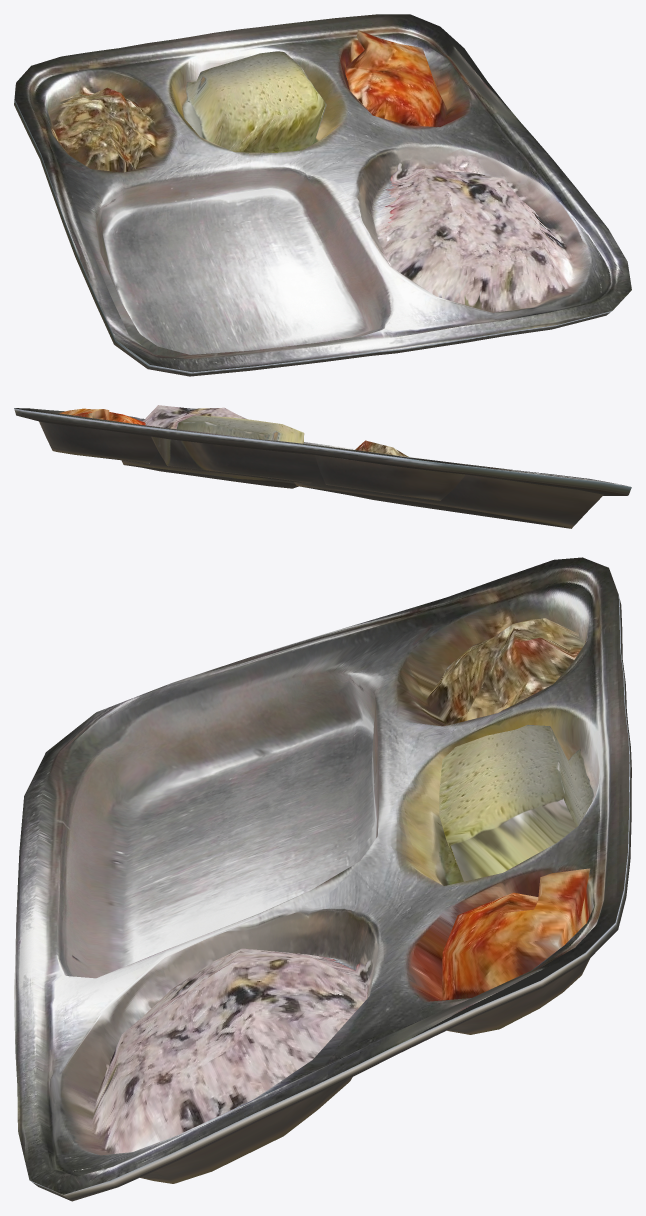
Rendered from tray.glb.
The picture shows the model from 3 angles, top to bottom: view 1: azimuth 30°, elevation 25°; view 2: azimuth 150°, elevation 25°; view 3: azimuth 270°, elevation 25°; orthographic projection. The views are drawn at different scales.
Parts seen in each view (by area): view 1: LunchTray; view 2: LunchTray; view 3: LunchTray.
Part boxes in pixels (x1,y1,x2,y2): LunchTray: [14, 14, 631, 376]; LunchTray: [14, 405, 631, 528]; LunchTray: [14, 557, 631, 1201].
Bounding box in the file's own units: 0.5573 × 0.2275 × 0.3732.
1 material, 1 textured.
